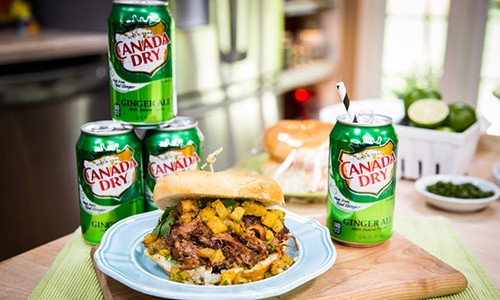Lata: (103, 1, 180, 131)
